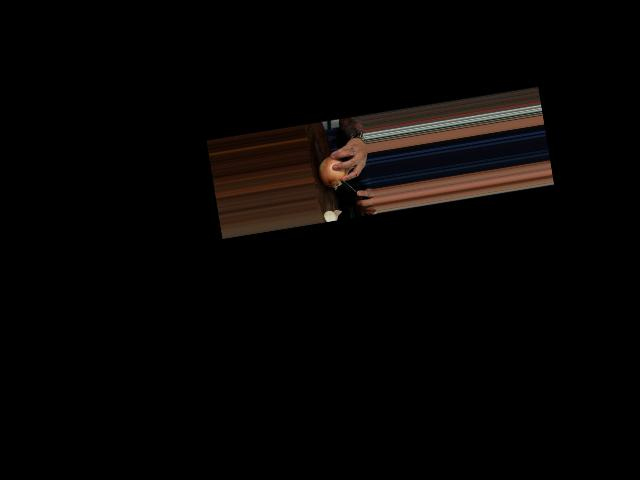onion: (318, 152, 348, 189)
